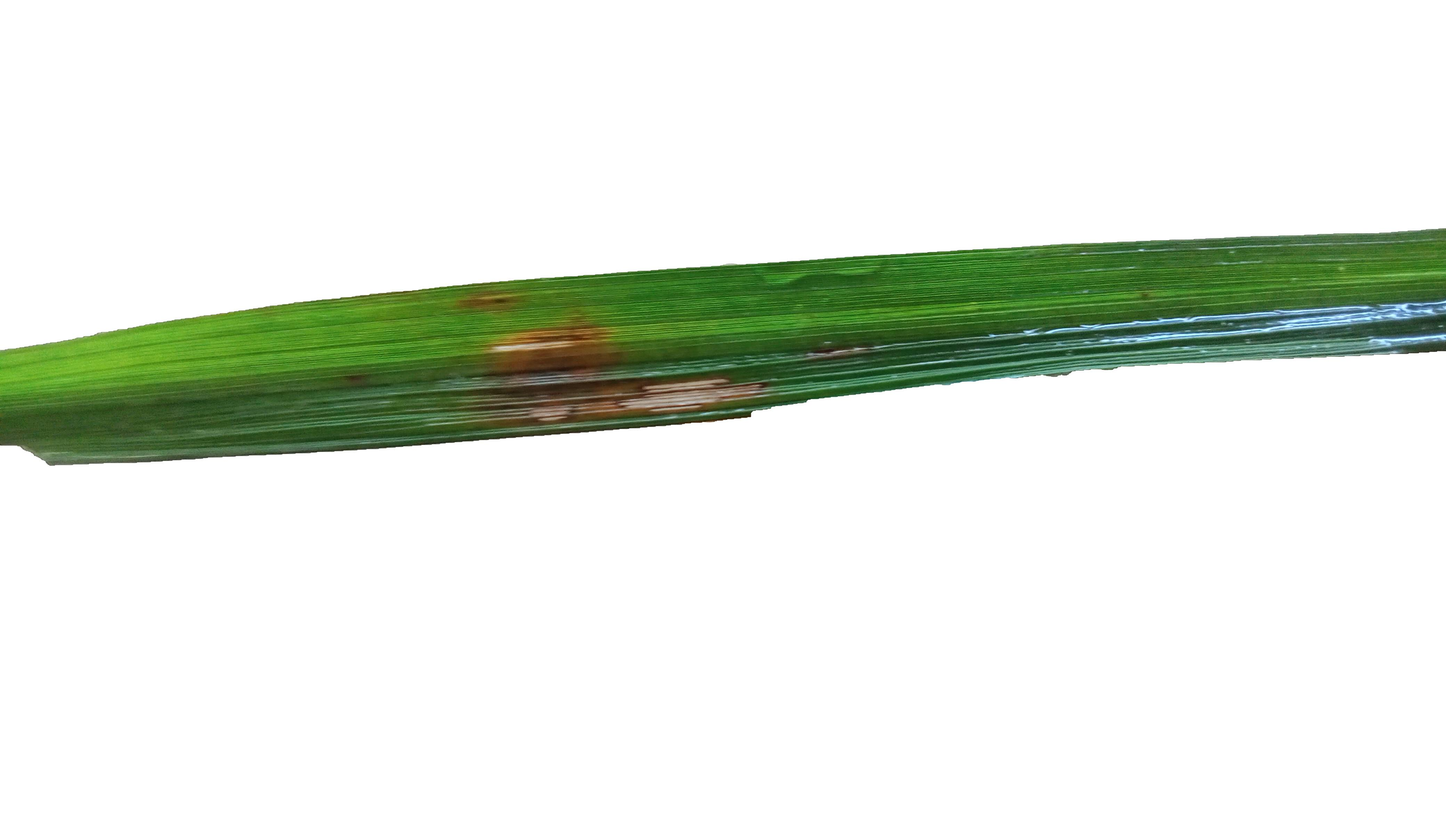Blight: (483, 306, 641, 429), (620, 353, 766, 422), (803, 318, 886, 370), (464, 274, 516, 321)
